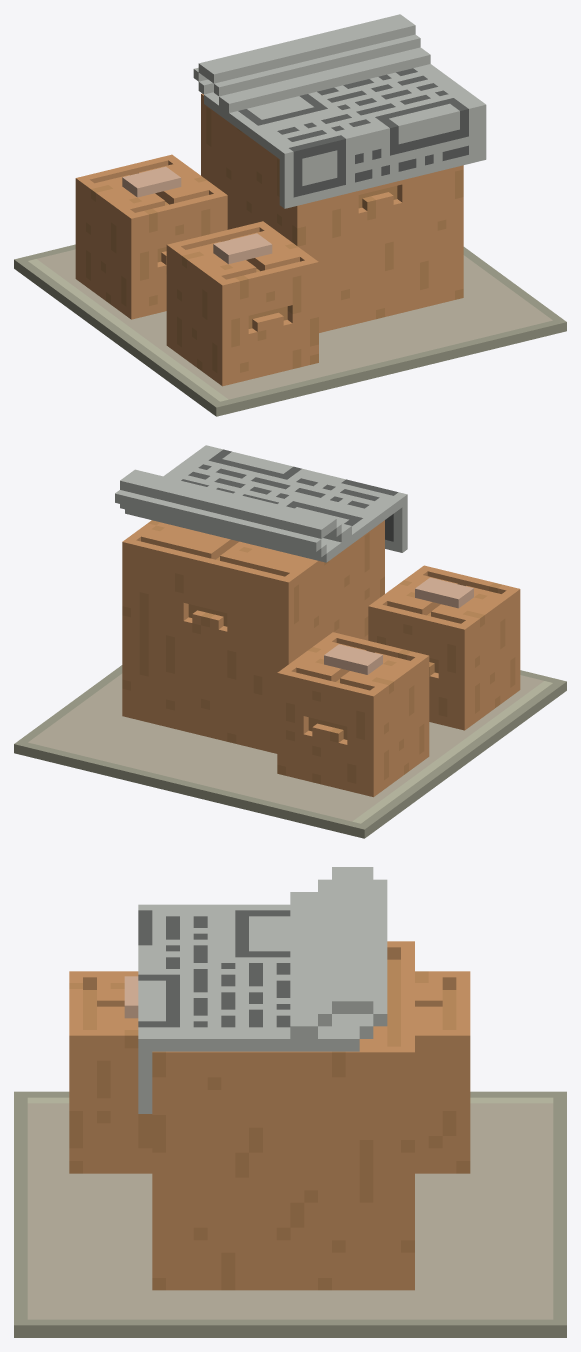
Rendered from Box_Big_Jornal_1.obj.
3 renders of one model, top to bottom at view 1: azimuth 30°, elevation 25°; view 2: azimuth 150°, elevation 25°; view 3: azimuth 270°, elevation 25°, orthographic. The views are drawn at different scales.
Bounding box in the file's own units: 40 × 25 × 40.
Materials: 1 (1 with a texture image).
